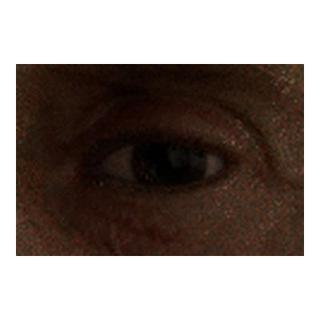pupil: (149, 142, 187, 180)
